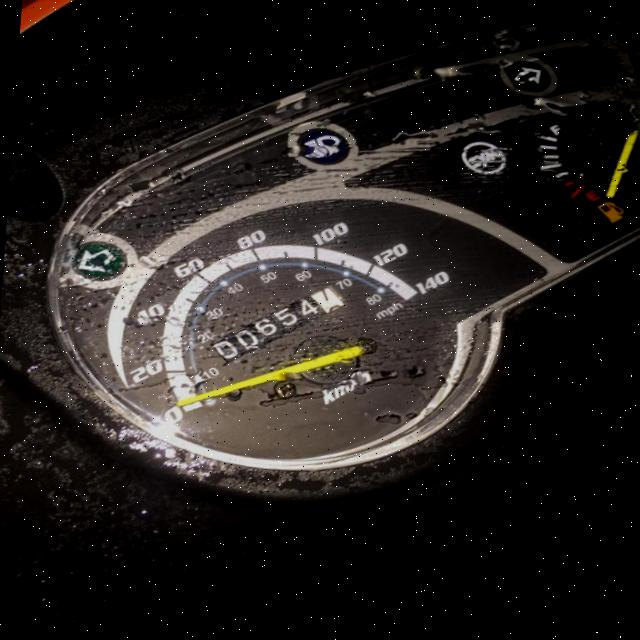odometer: (202, 276, 358, 374)
